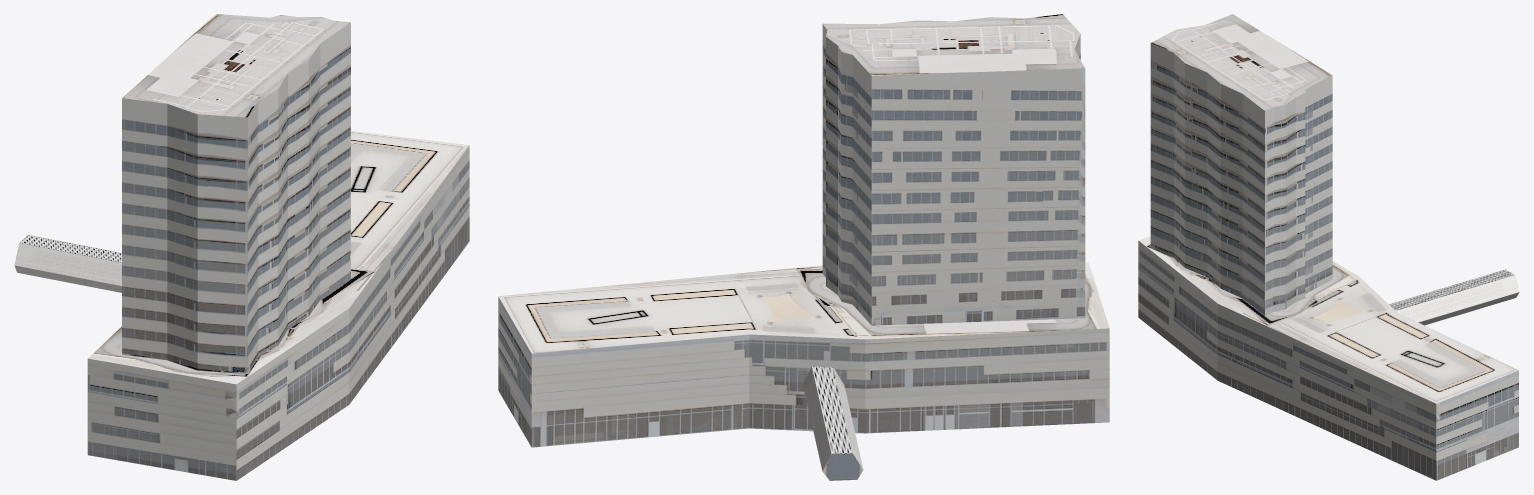
File: 507OFFICESNEW.glb
3 views of the same model, side by side, from view 1: azimuth 30°, elevation 25°; view 2: azimuth 150°, elevation 25°; view 3: azimuth 270°, elevation 25° (orthographic). The views are drawn at different scales.
Parts seen in each view (by area): view 1: 507OFFICES.001; view 2: 507OFFICES.001; view 3: 507OFFICES.001.
Part boxes in pixels (x1,y1,x2,y2): 507OFFICES.001: (14, 14, 469, 480); 507OFFICES.001: (498, 14, 1109, 480); 507OFFICES.001: (1138, 14, 1519, 480).
Size of the model in its own units: 81.9 by 54.73 by 67.13.
Materials: 1 (1 with a texture image).
